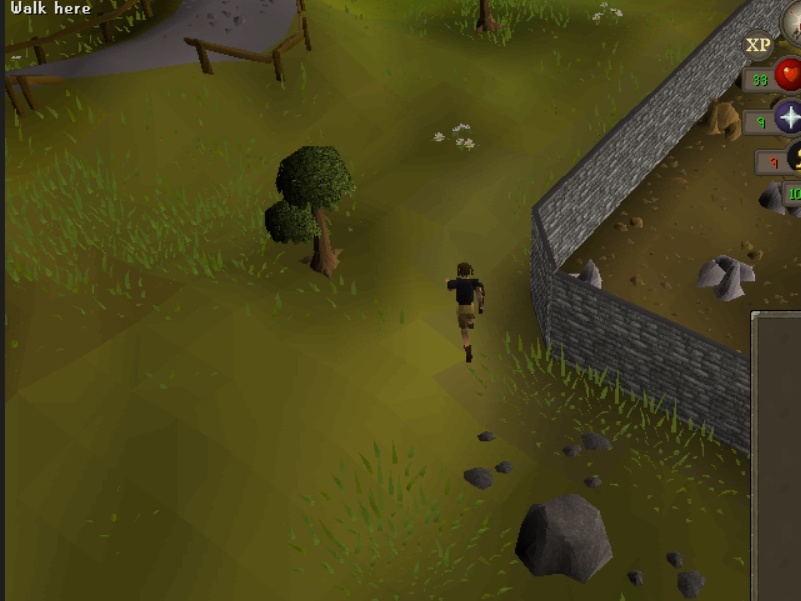clay: (698, 93, 750, 143)
silver: (696, 246, 766, 307), (754, 171, 801, 220), (559, 253, 604, 301)
